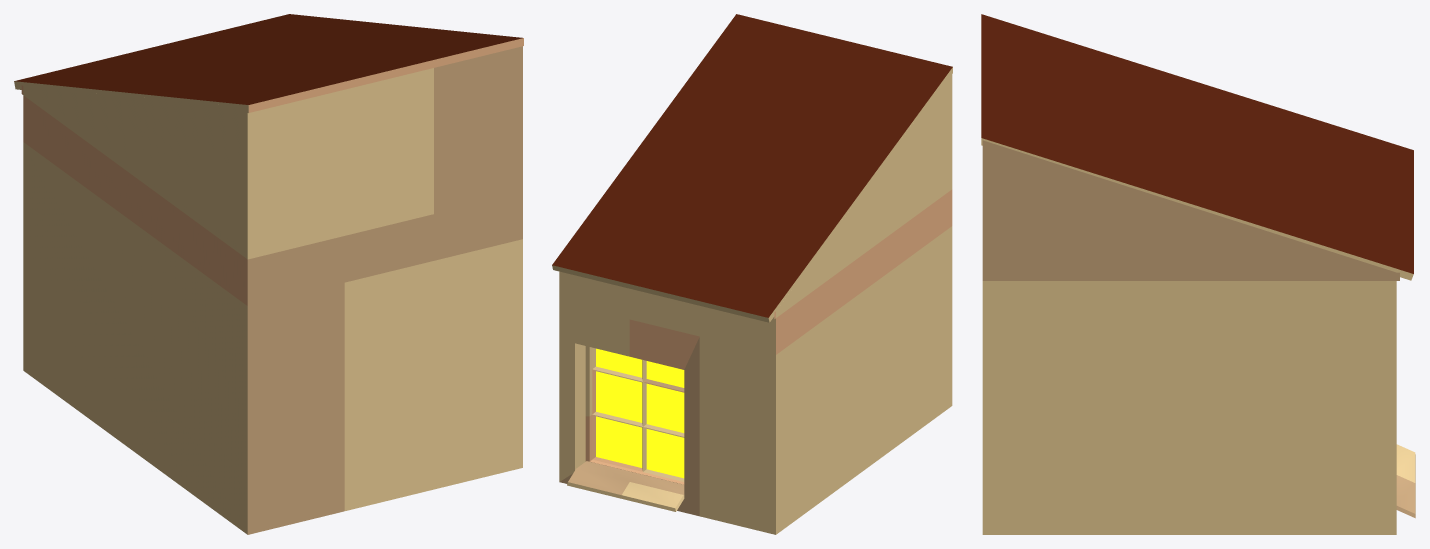
File: house_roof.fbx
3 views of the same model, side by side, from view 1: azimuth 30°, elevation 25°; view 2: azimuth 150°, elevation 25°; view 3: azimuth 270°, elevation 25° (orthographic). The views are drawn at different scales.
Parts seen in each view (by area): view 1: pasted__polySurface2, pCube4; view 2: pasted__polySurface2, pCube4; view 3: pasted__polySurface2, pCube4.
Boxes of the visible parts, left/top/right/bottom form: pasted__polySurface2: left=21, top=46, right=522, bottom=534; pCube4: left=14, top=14, right=523, bottom=112; pasted__polySurface2: left=559, top=70, right=952, bottom=534; pCube4: left=552, top=14, right=952, bottom=322; pasted__polySurface2: left=982, top=140, right=1415, bottom=534; pCube4: left=981, top=14, right=1413, bottom=280.
Size of the model in its own units: 3.92 by 5.86 by 5.81.
